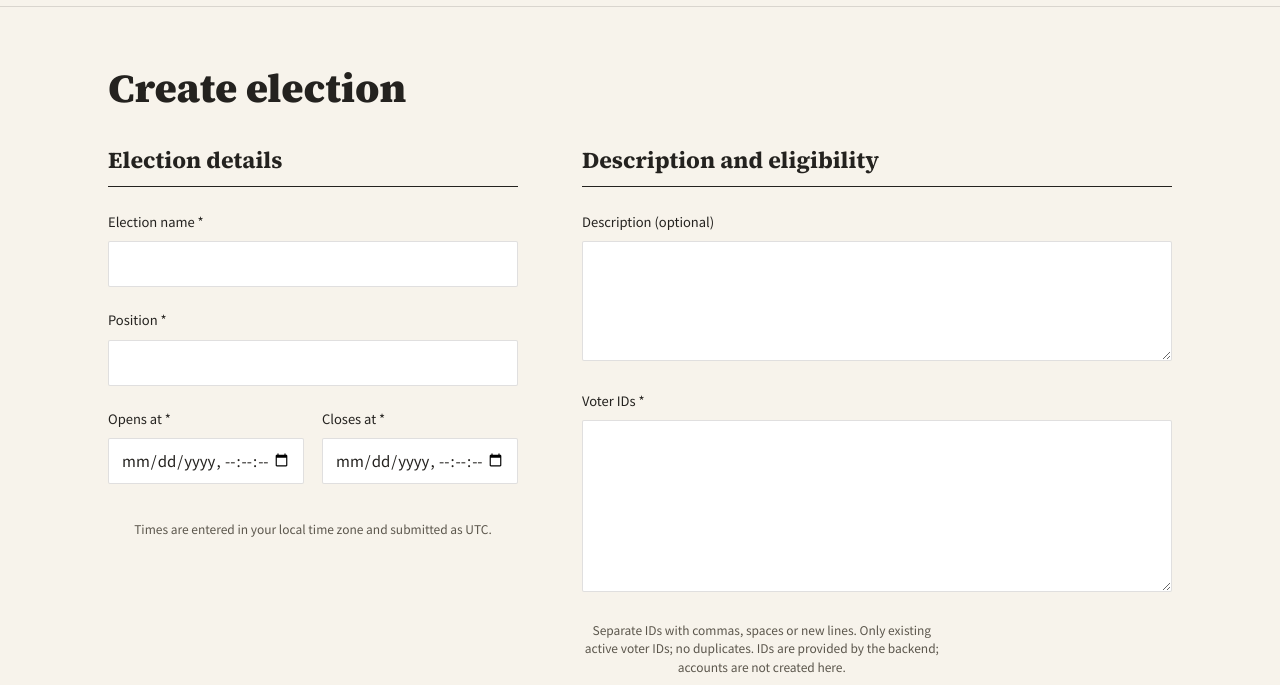
Scenario: create election › associates voter validation errors with the voter ID field
The width and height of the screenshot is (1280, 685).
Check: the heading "Create election" is shown, box x1=108 y1=61 x2=406 y2=115
Type "New class representative election" into the field labelled "Election name *" at (313, 264), box x1=108 y1=242 x2=518 y2=288
Type "Class representative" into the field labelled "Position *" at (313, 363), box x1=108 y1=340 x2=518 y2=386
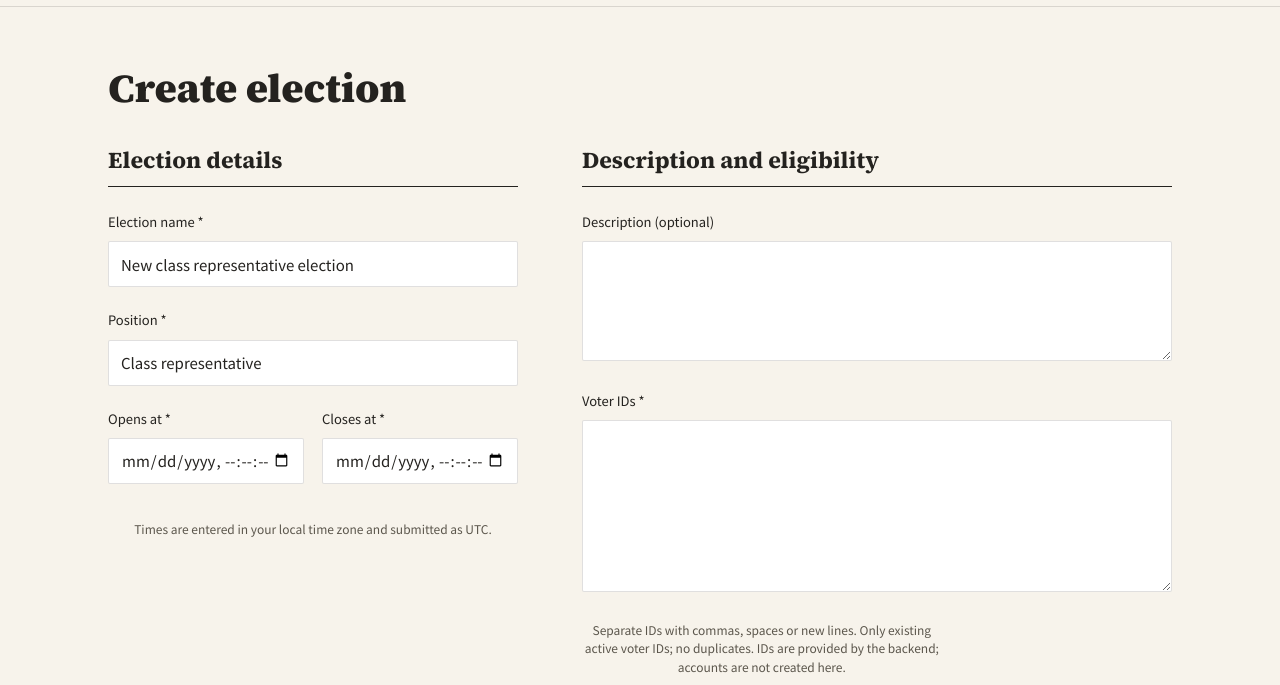
Type "2026-10-20T09:00" into the field labelled "Opens at *" at (206, 461), box x1=108 y1=438 x2=304 y2=484
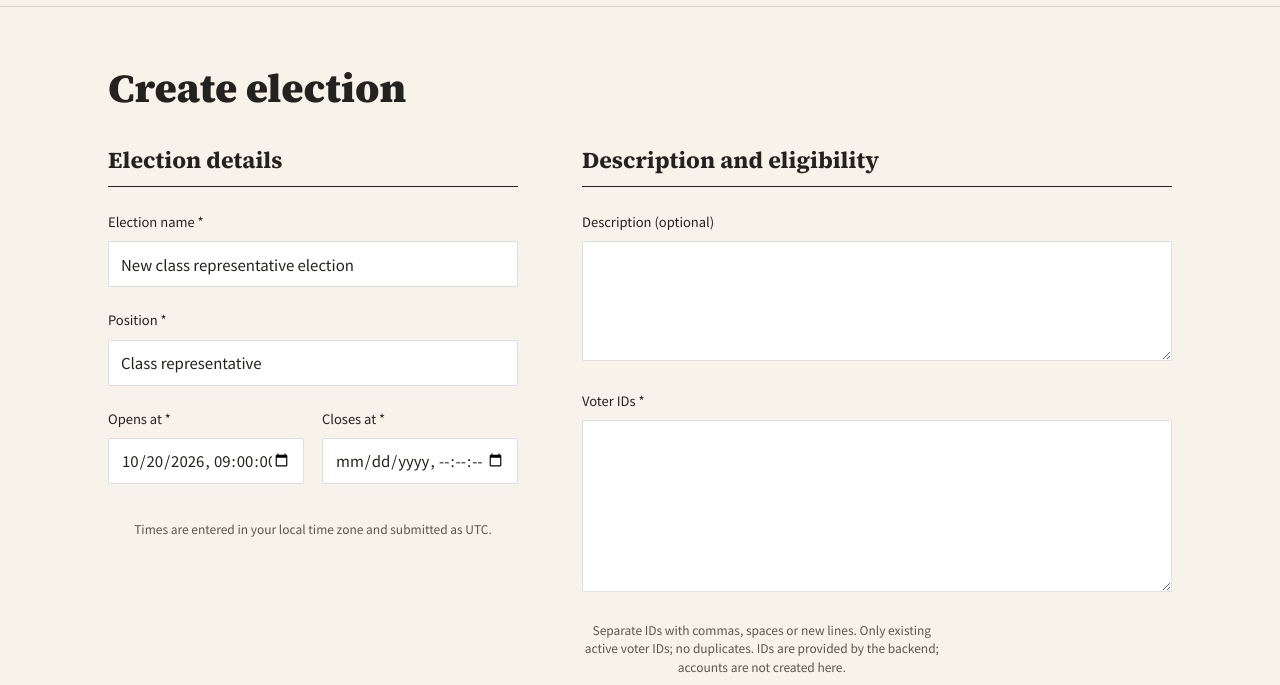
Type "2026-10-20T17:00" into the field labelled "Closes at *" at (420, 461), box x1=322 y1=438 x2=518 y2=484
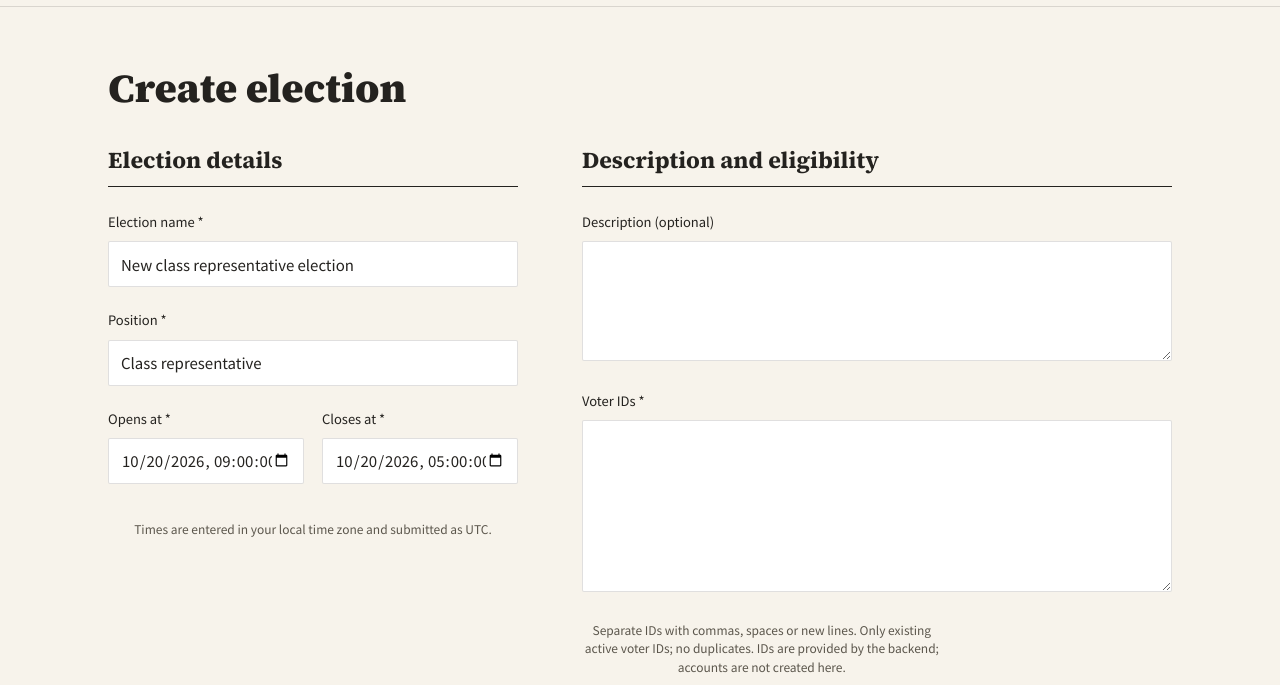
Type "21,9007199254740995" into the text box labelled "Voter IDs *" at (877, 506), box x1=582 y1=420 x2=1172 y2=592
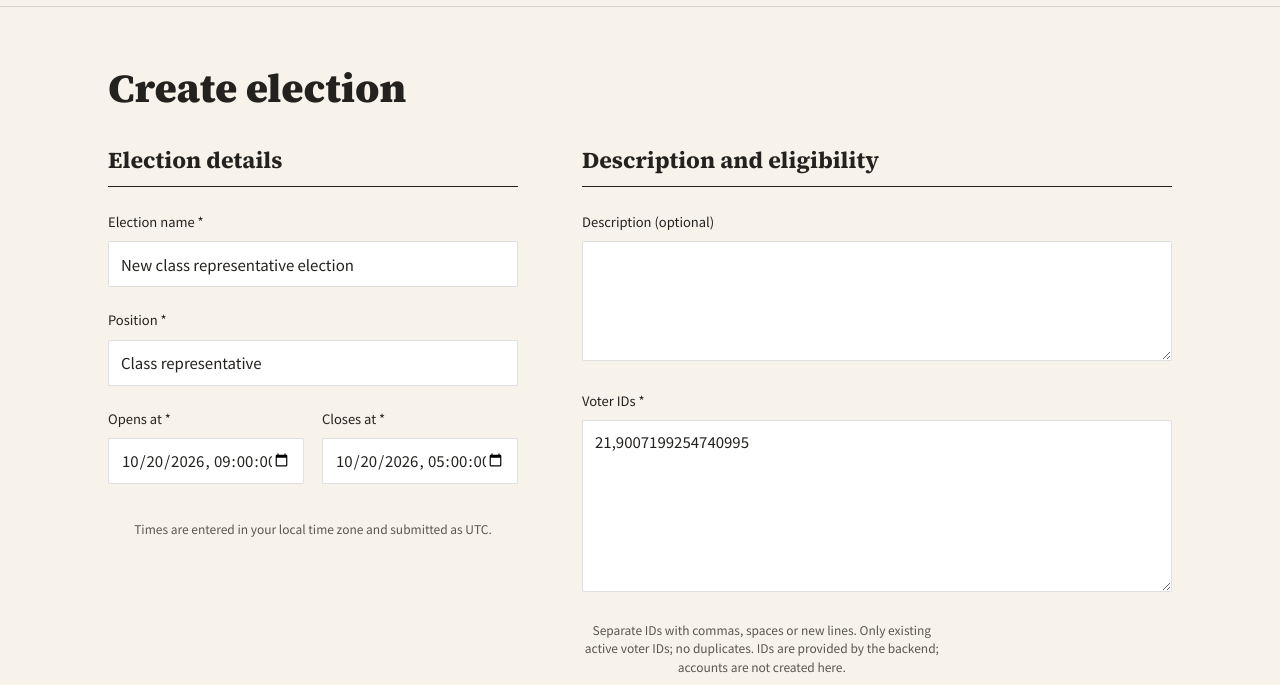
Replace the text in the text box labelled "Voter IDs *" with "21,21" at (877, 506), box x1=582 y1=420 x2=1172 y2=592
(page scrolled)
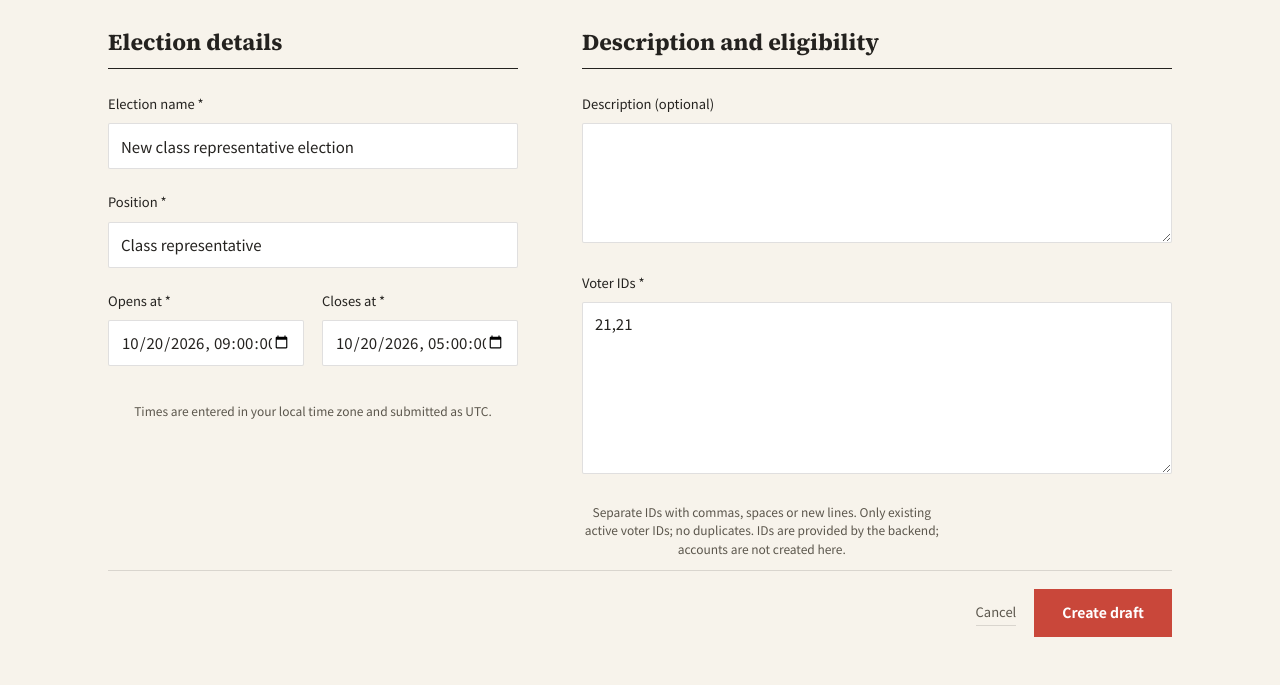
Click the button "Create draft" at (1103, 613), box x1=1034 y1=589 x2=1172 y2=637
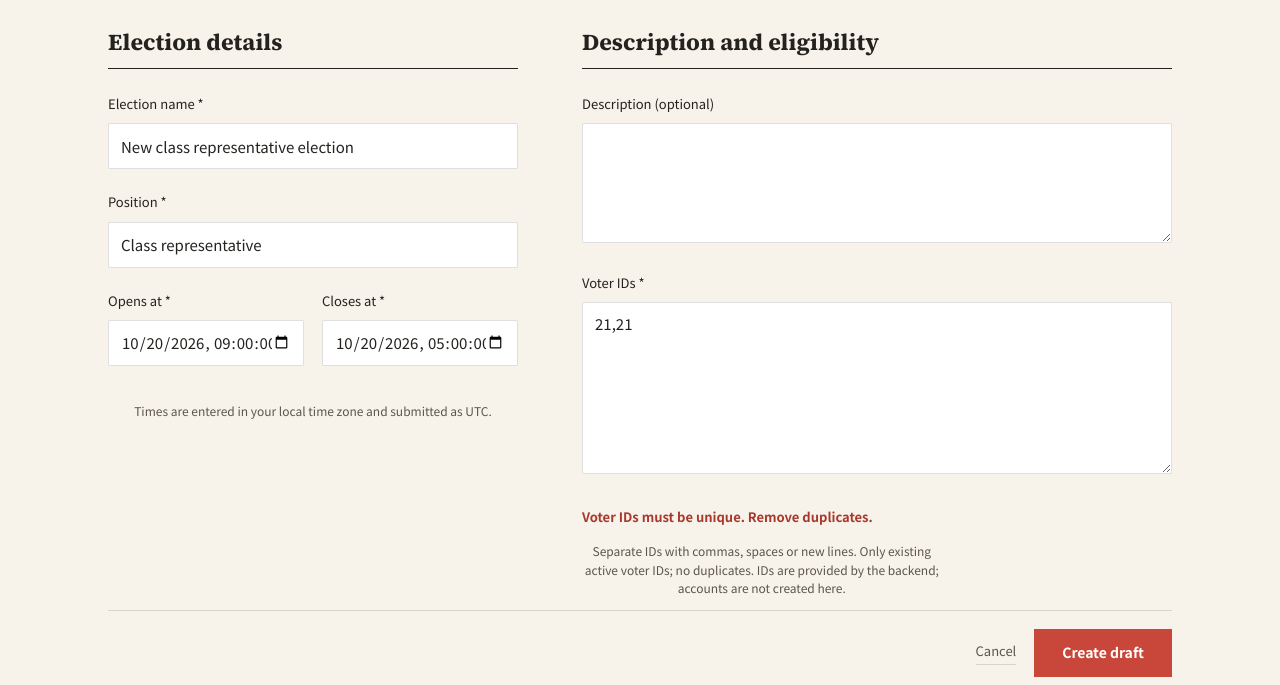
Check: the message with id "create-voters-error" shows "unique", box x1=582 y1=507 x2=873 y2=526
